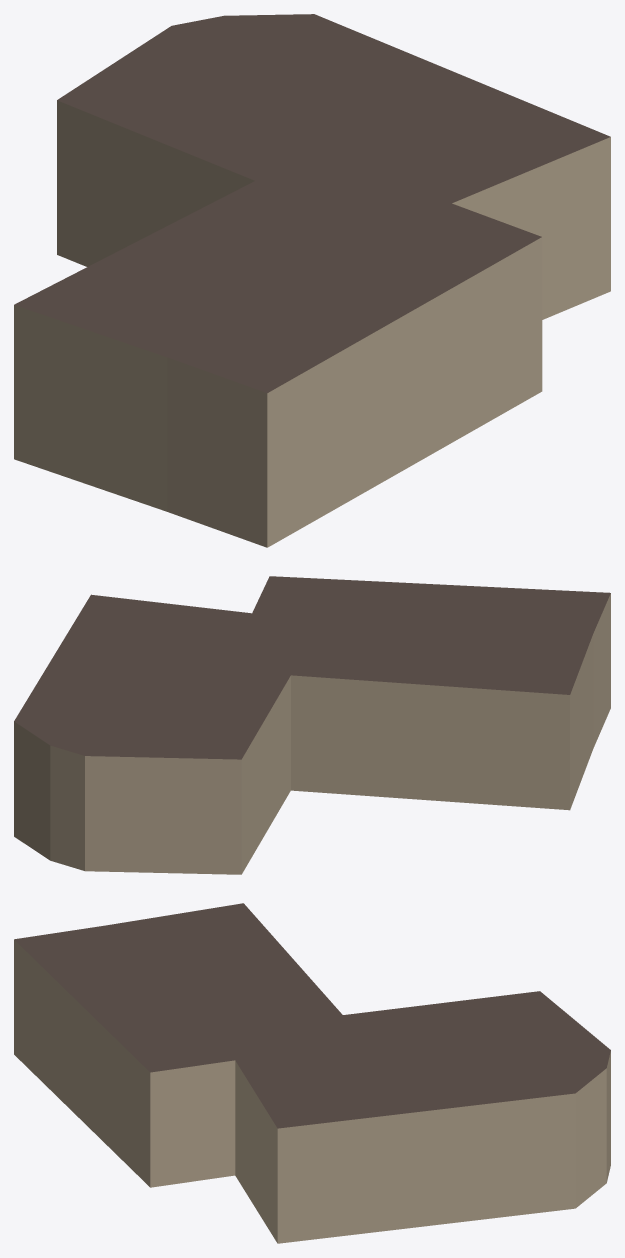
The picture shows the model from 3 angles, top to bottom: view 1: azimuth 30°, elevation 25°; view 2: azimuth 150°, elevation 25°; view 3: azimuth 270°, elevation 25°; orthographic projection. The views are drawn at different scales.
Parts seen in each view (by area): view 1: HP-w1515076986; view 2: HP-w1515076986; view 3: HP-w1515076986.
Part boxes in pixels (x1,y1,x2,y2): HP-w1515076986: [14, 14, 610, 547]; HP-w1515076986: [14, 576, 610, 874]; HP-w1515076986: [14, 903, 610, 1243].
Size of the model in its own units: 37.77 by 9 by 42.28.
